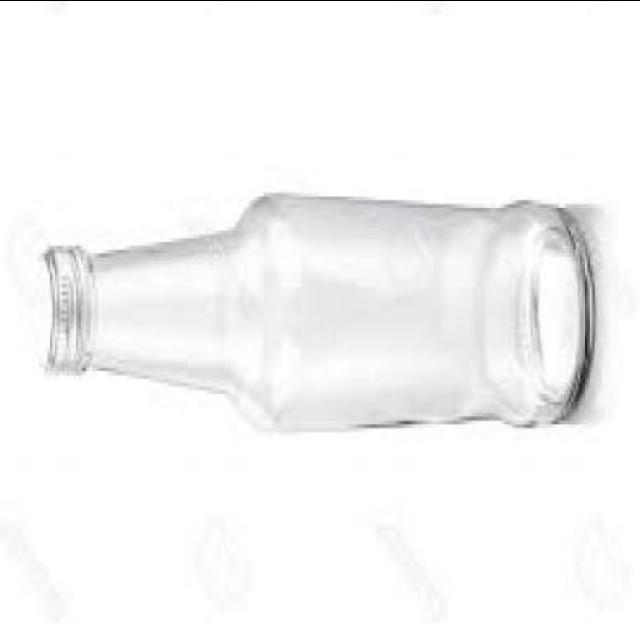kaca: (39, 206, 596, 432)
